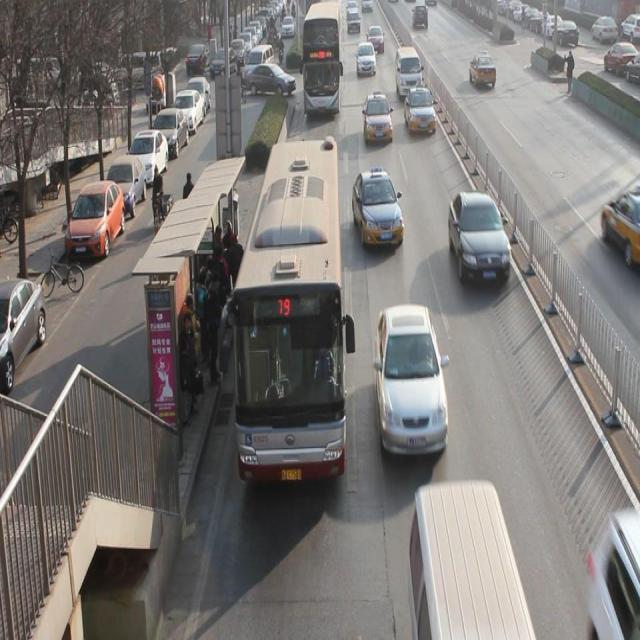car: (376, 303, 450, 454), (589, 508, 640, 626), (448, 191, 511, 284), (352, 170, 404, 244), (602, 187, 640, 263), (404, 92, 437, 134), (364, 96, 393, 139), (468, 51, 498, 91), (356, 43, 375, 78), (368, 27, 385, 54), (347, 14, 362, 34)
truck: (410, 487, 533, 631), (395, 47, 423, 102)
van: (228, 141, 346, 482), (303, 1, 341, 115)
